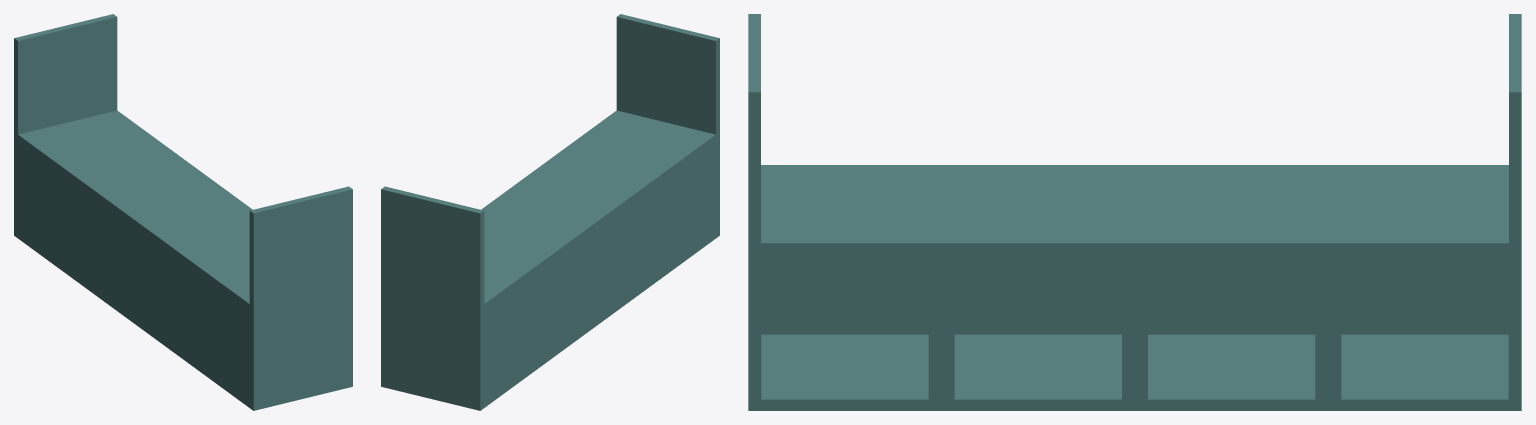
The model's file is wallShellf_cubbyShelf.fbx.
The picture shows the model from 3 angles, left to right: view 1: azimuth 30°, elevation 25°; view 2: azimuth 150°, elevation 25°; view 3: azimuth 270°, elevation 25°; orthographic projection. The views are drawn at different scales.
Visible parts, largest first — view 1: boxShelf_with_borders; view 2: boxShelf_with_borders; view 3: boxShelf_with_borders.
Boxes of the visible parts, <box> form: boxShelf_with_borders: <box>14,14,352,410</box>; boxShelf_with_borders: <box>381,14,719,410</box>; boxShelf_with_borders: <box>748,14,1521,410</box>.
Size of the model in its own units: 1 by 1.9 by 4.18.
